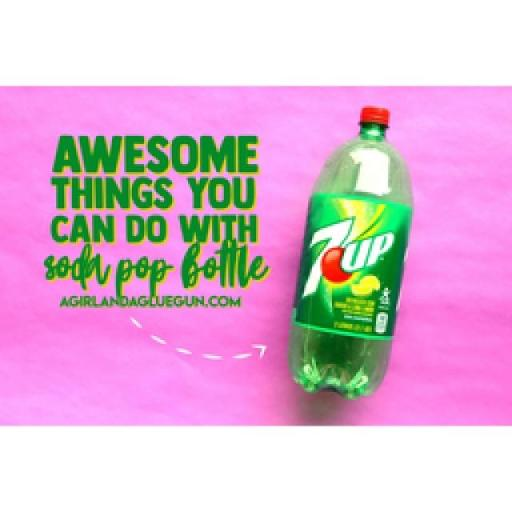plastic: (286, 104, 414, 400)
